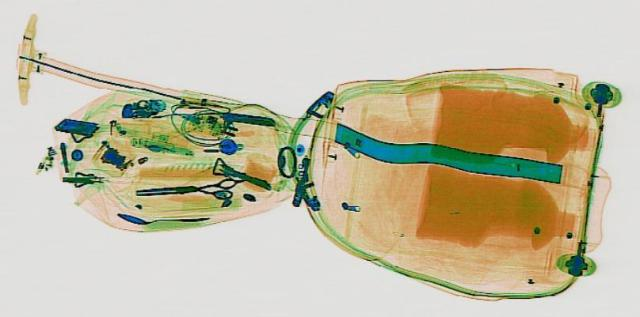Scissors: (131, 176, 239, 202)
